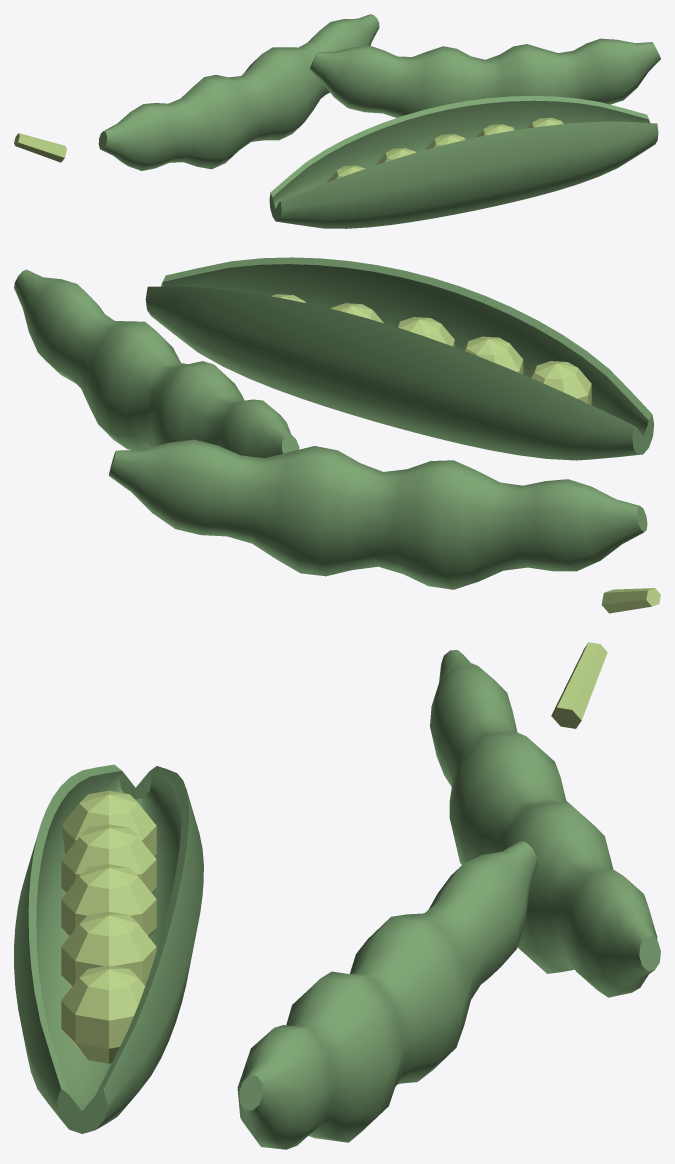
Rendered from fresh-produce-and-groceries-peas-in-pods-42d517fb__24382.glb.
The picture shows the model from 3 angles, top to bottom: view 1: azimuth 30°, elevation 25°; view 2: azimuth 150°, elevation 25°; view 3: azimuth 270°, elevation 25°; orthographic projection. The views are drawn at different scales.
Visible parts, largest first — view 1: peas-in-pods; view 2: peas-in-pods; view 3: peas-in-pods.
Part boxes in pixels (x1=…): peas-in-pods: x1=14, y1=14, x2=660, y2=228; peas-in-pods: x1=14, y1=257, x2=660, y2=613; peas-in-pods: x1=14, y1=642, x2=660, y2=1149.
Size of the model in its own units: 0.1582 by 0.0243 by 0.0877.
